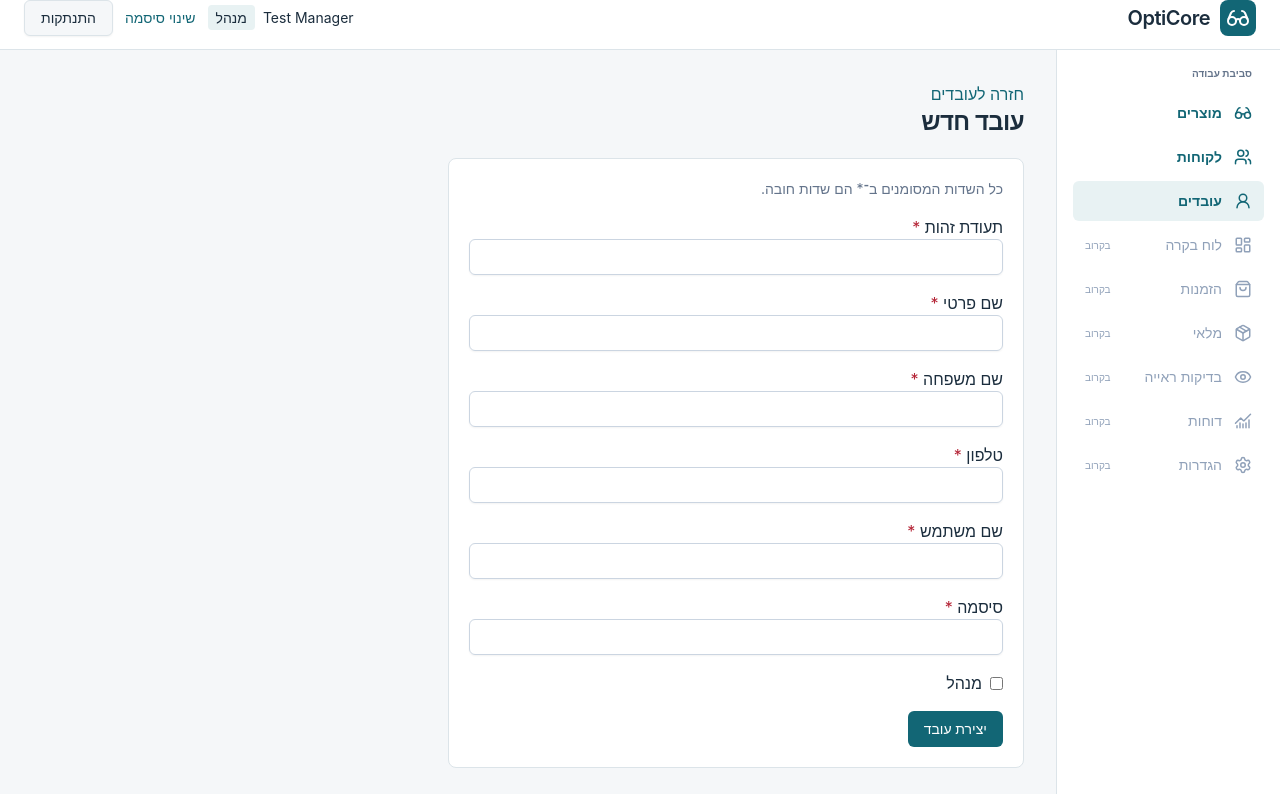
validates Employee required fields and numeric/password constraints
This screenshot has width=1280, height=794.
(page scrolled)
What coordinates should you click on to do the following:
click the button "יצירת עובד"
I would click on:
 (955, 729)
Its box is [908,711,1003,747].
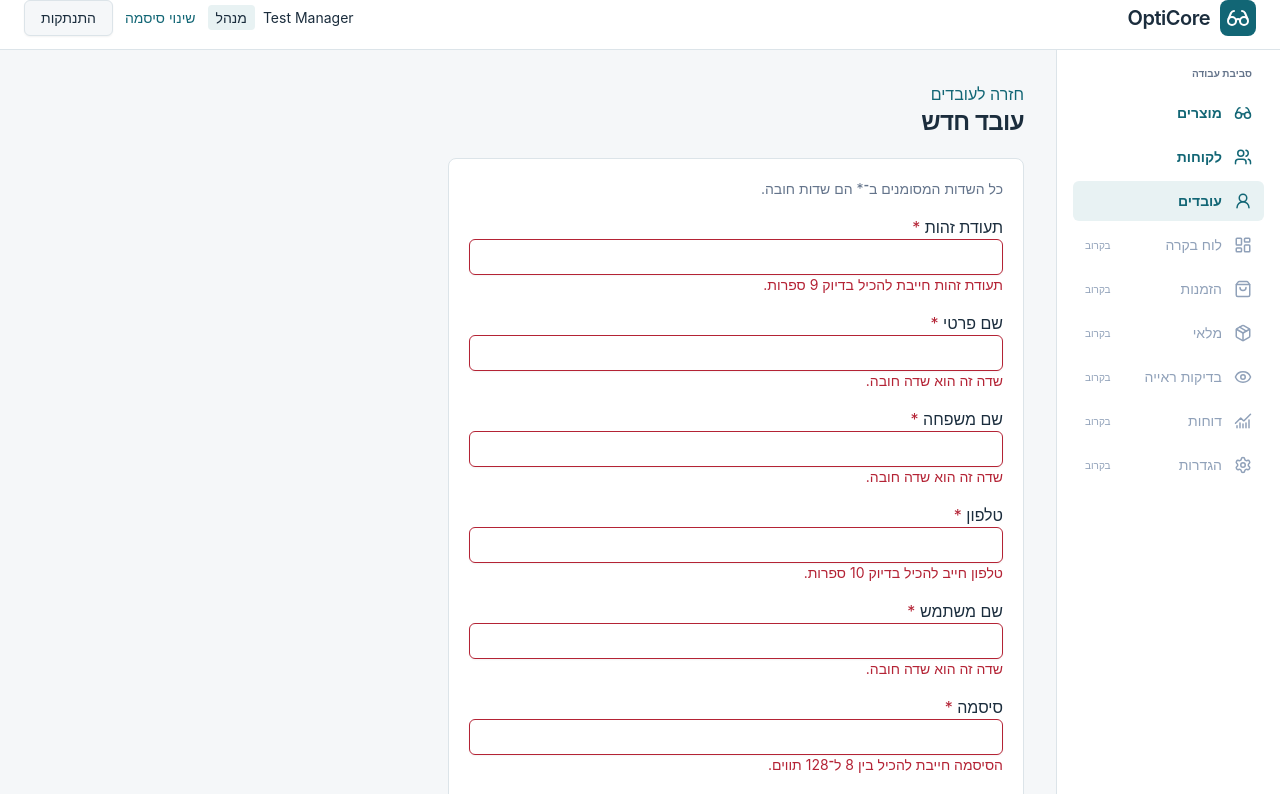
Expected: the text "שדה זה הוא שדה חובה." is shown 3 times, [866,372,1003,389]; [866,468,1003,485]; [866,660,1003,677]
Expected: the text "תעודת זהות חייבת להכיל בדיוק 9 ספרות." is shown, [763,276,1003,293]
Expected: the text "טלפון חייב להכיל בדיוק 10 ספרות." is shown, [804,564,1003,581]
